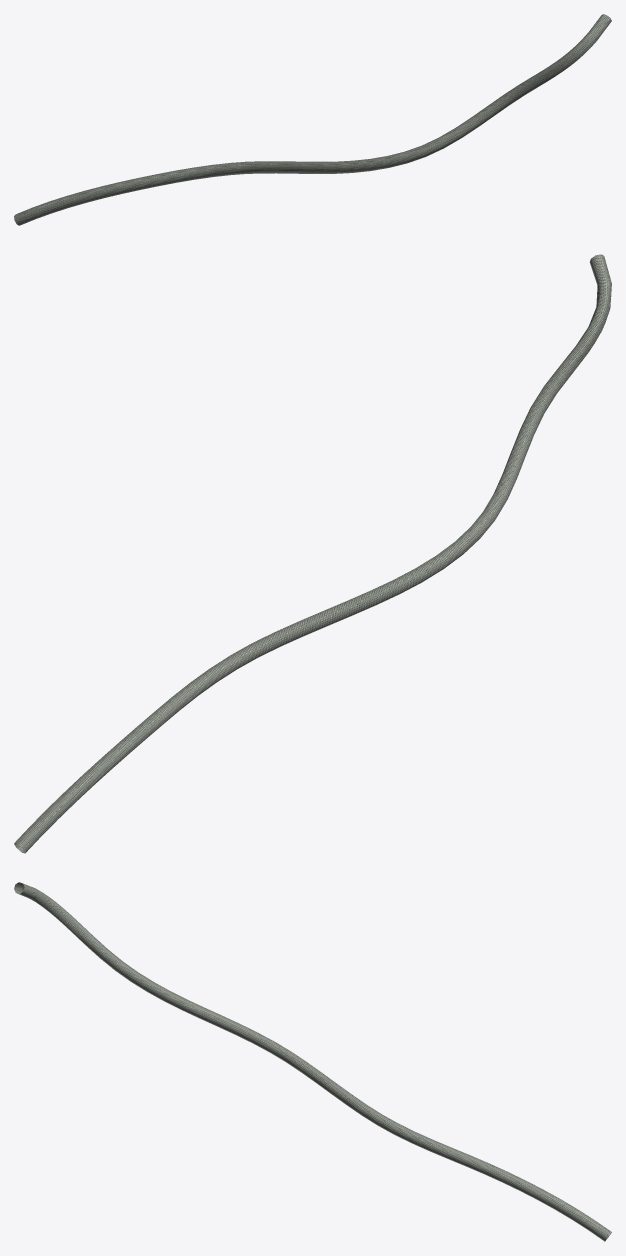
The model's file is microtubule23.fbx.
3 renders of one model, top to bottom at view 1: azimuth 90°, elevation 25°; view 2: azimuth 150°, elevation 25°; view 3: azimuth 270°, elevation 25°, orthographic. The views are drawn at different scales.
Parts seen in each view (by area): view 1: microtubule23; view 2: microtubule23; view 3: microtubule23.
Part boxes in pixels (x1,y1,x2,y2): microtubule23: (14, 14, 611, 225); microtubule23: (14, 254, 611, 853); microtubule23: (14, 882, 611, 1241).
Size of the model in its own units: 2528 by 3831 by 7302.
1 material, 1 textured.
